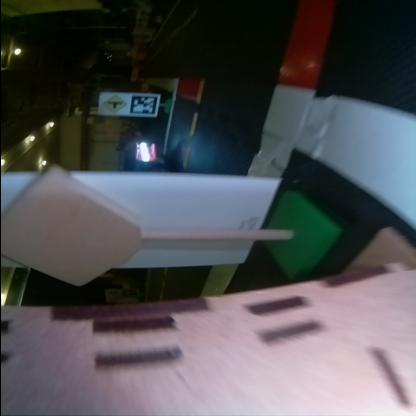Intersection sign: (100, 94, 124, 112)
QR code: (130, 94, 154, 115)
